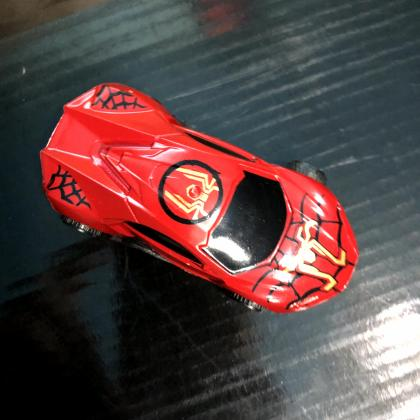Car: (39, 83, 359, 315)
